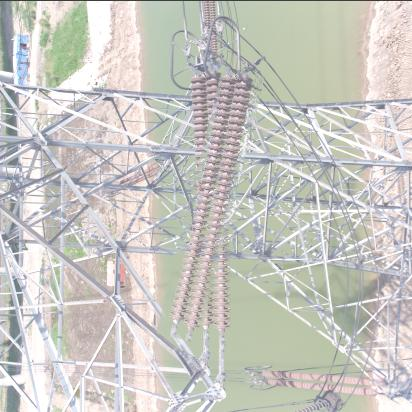insulator: (174, 68, 250, 344)
